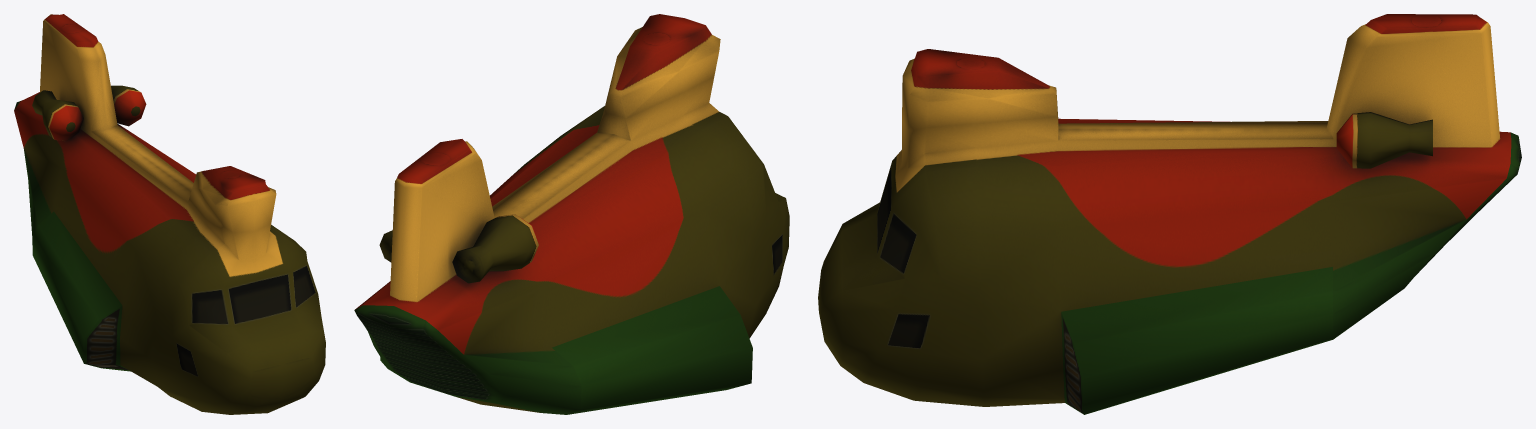
The model's file is chopper4.obj.
3 renders of one model, left to right at view 1: azimuth 30°, elevation 25°; view 2: azimuth 150°, elevation 25°; view 3: azimuth 270°, elevation 25°, orthographic. The views are drawn at different scales.
Visible parts, largest first — view 1: Catoon_CH47; view 2: Catoon_CH47; view 3: Catoon_CH47.
Boxes of the visible parts, x1,y1,x2,y2 form: Catoon_CH47: [14, 14, 325, 414]; Catoon_CH47: [354, 14, 789, 414]; Catoon_CH47: [818, 14, 1521, 414].
Bounding box in the file's own units: 19.88 × 22.48 × 39.11.
Materials: 1 (1 with a texture image).
